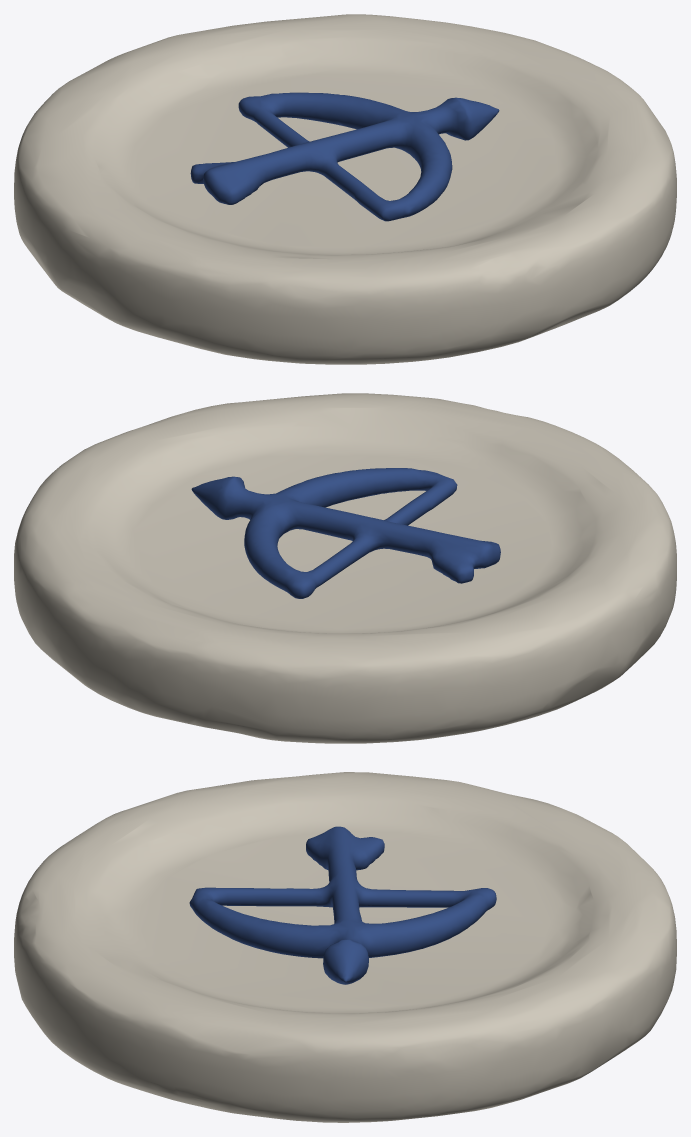
File: token-archer-blue.glb
The picture shows the model from 3 angles, top to bottom: view 1: azimuth 30°, elevation 25°; view 2: azimuth 150°, elevation 25°; view 3: azimuth 270°, elevation 25°; orthographic projection.
Visible parts, largest first — view 1: token_archer_blue; view 2: token_archer_blue; view 3: token_archer_blue.
Part boxes in pixels (x1,y1,x2,y2): token_archer_blue: (14, 14, 676, 364); token_archer_blue: (14, 393, 676, 743); token_archer_blue: (14, 772, 676, 1122).
Size of the model in its own units: 0.4139 by 0.0746 by 0.414.
